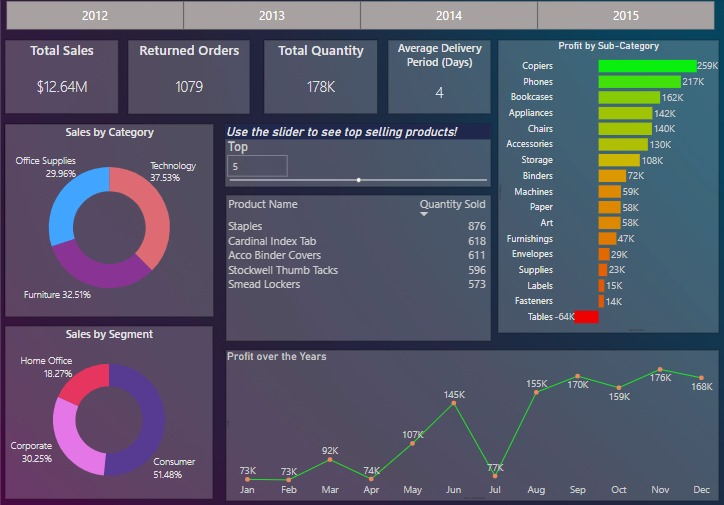

The page's visual inventory and layout, read from the dashboard file:
{"tool":"powerbi","page":{"name":"Page 1","canvas":[4000,2800],"ordinal":0},"visuals":[{"type":"card","title":"Total Sales","fields":{"Values":["Sum(Orders.Sales)"]},"box":[25,231.2,625,406.2],"z":0},{"type":"slicer","fields":{"Values":["Orders.Year"]},"box":[12.5,12.5,3950,168.8],"z":1000},{"type":"card","title":"Total Quantity","fields":{"Values":["Sum(Orders.Quantity)"]},"box":[1452.8,230.3,626,407.5],"z":2000},{"type":"card","title":"Returned Orders","fields":{"Values":["Sum(Returns.Returned Orders)"]},"box":[705.5,231.5,672.4,407.9],"z":3000},{"type":"card","title":"Average Delivery Period (Days)","fields":{"Values":["Avg(Orders.Delivery Period)"]},"box":[2137.8,230.3,566.9,407.5],"z":4000},{"type":"donutChart","title":"Sales by Category","fields":{"Category":["Orders.Category"],"Y":["Sum(Orders.Sales)"]},"box":[25,693.8,1150,1062.5],"z":5000},{"type":"donutChart","title":"Sales by Segment","fields":{"Category":["Orders.Segment"],"Y":["Sum(Orders.Sales)"]},"box":[27.6,1807.9,1146.5,953.5],"z":6000},{"type":"barChart","title":"Profit by Sub-Category","fields":{"Y":["Sum(Orders.Profit)"],"Category":["Orders.Sub-Category"]},"box":[2744.9,231.5,1218.1,1615],"z":7000},{"type":"lineChart","title":"Profit over the Years","fields":{"Category":["Orders.Order Date.Variation.Date Hierarchy.Year","Orders.Order Date.Variation.Date Hierarchy.Quarter","Orders.Short_monthname"],"Y":["Sum(Orders.Profit)"]},"box":[1245.7,1940.2,2717.3,832.3],"z":8000},{"type":"slicer","title":"Use the slider to see top selling products!","fields":{"Values":["Top  N.Top  N"]},"box":[1240.2,694.5,1466.1,347.2],"z":9000},{"type":"tableEx","fields":{"Values":["Orders.Product Name","Orders.Rank"]},"box":[1245.7,1085.8,1460.6,804.7],"z":10000}]}

Visuals, with their boxes in screenshot pixels (x1, y1, x2, y2), scaled from the page's 4000x2800 canvas onto the 724x505 screenshot:
"Total Sales" card: (5, 42, 118, 115)
slicer - Orders.Year: (2, 2, 717, 33)
"Total Quantity" card: (263, 42, 376, 115)
"Returned Orders" card: (128, 42, 249, 115)
"Average Delivery Period (Days)" card: (387, 42, 490, 115)
"Sales by Category" donutChart: (5, 125, 213, 317)
"Sales by Segment" donutChart: (5, 326, 213, 498)
"Profit by Sub-Category" barChart: (497, 42, 717, 333)
"Profit over the Years" lineChart: (225, 350, 717, 500)
"Use the slider to see top selling products!" slicer: (224, 125, 490, 188)
tableEx - Orders.Product Name x Orders.Rank: (225, 196, 490, 341)
